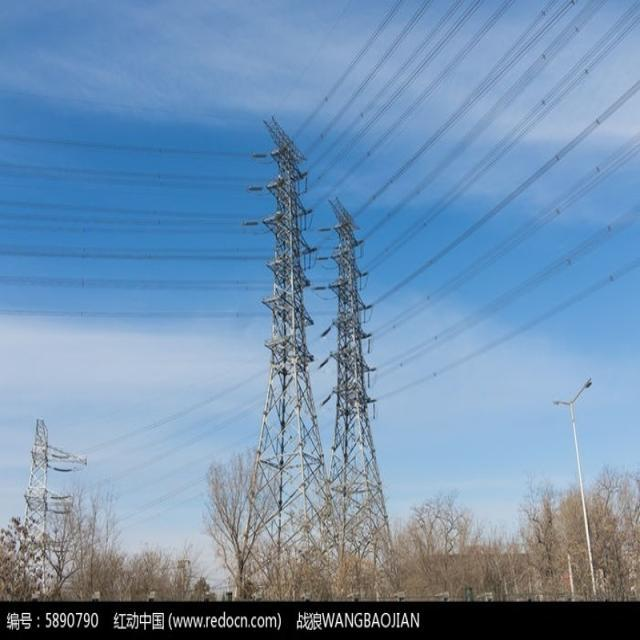non-critical vegetation: (238, 110, 340, 549), (309, 156, 402, 554)
